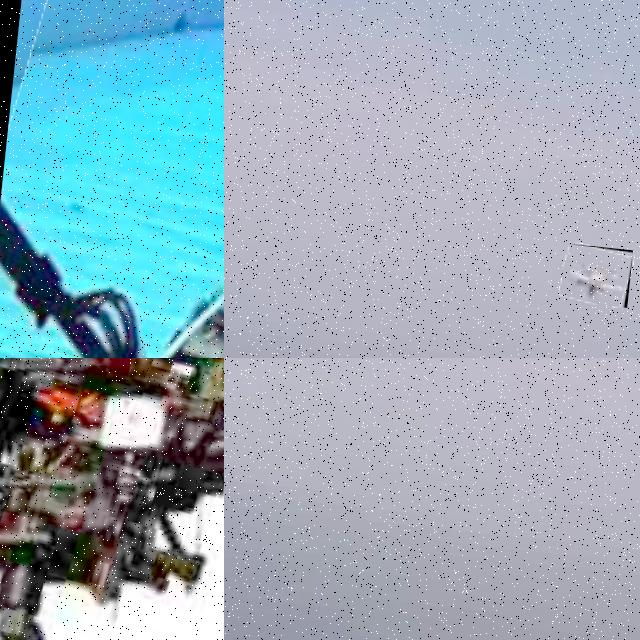0: (559, 242, 633, 308)
drone: (0, 0, 224, 358), (0, 358, 224, 640)
